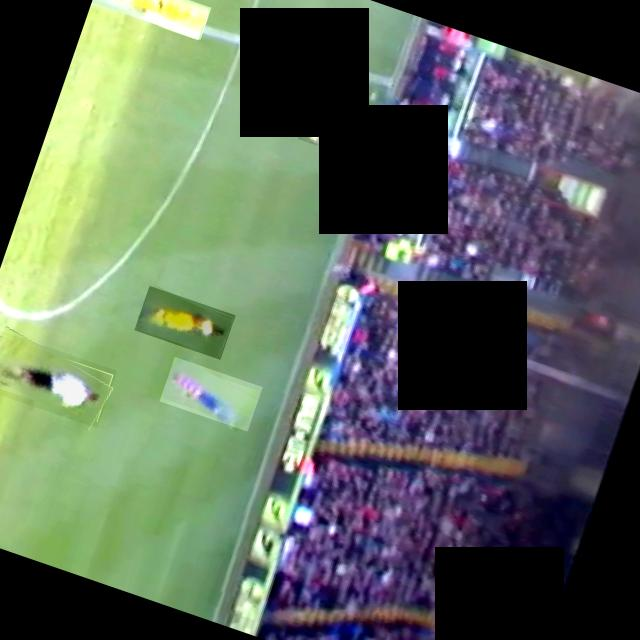referee: (0, 328, 117, 427)
soccer-player: (160, 356, 262, 430), (134, 284, 235, 358), (288, 68, 363, 143), (91, 0, 211, 39)
